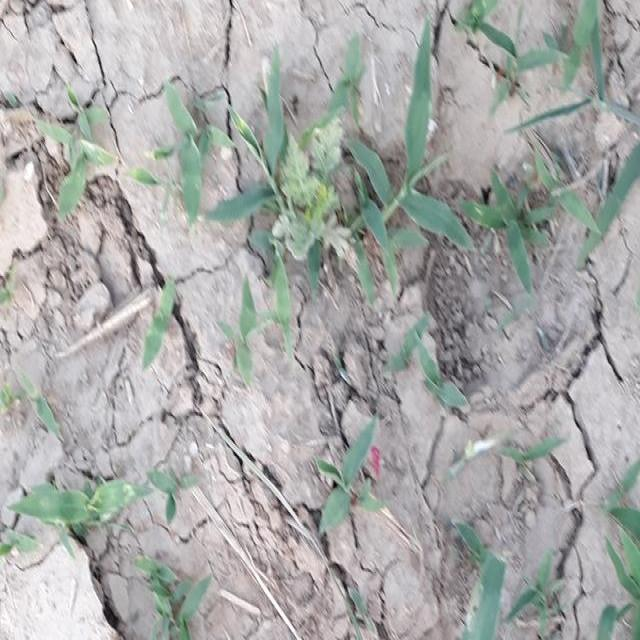weed: (145, 47, 583, 296)
